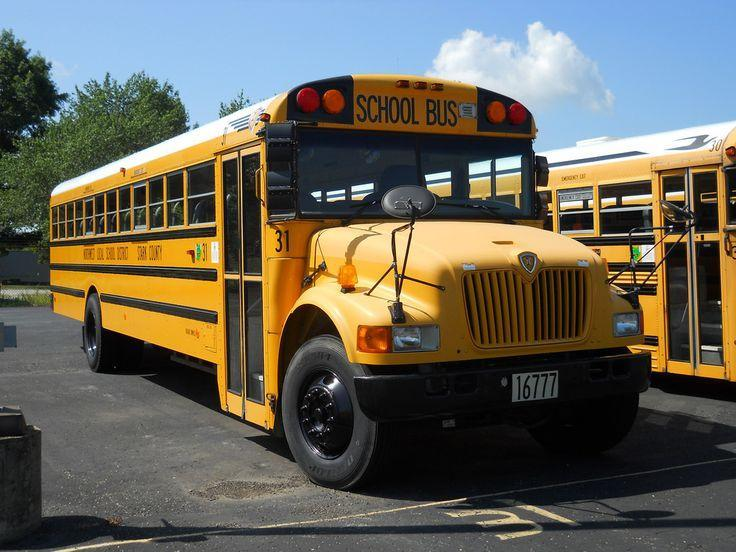Bus: (45, 74, 651, 493)
